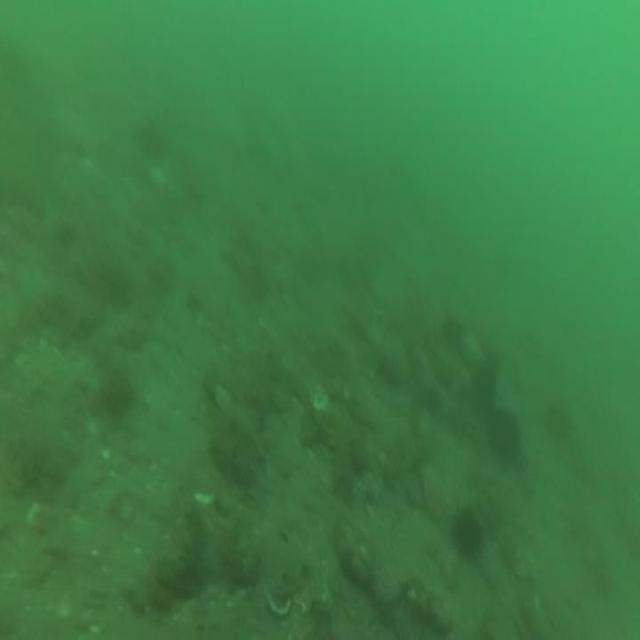echinus: (445, 498, 487, 566), (484, 403, 524, 469), (131, 110, 169, 168), (468, 354, 502, 414), (540, 398, 576, 449), (440, 310, 468, 351)
holothurian: (324, 400, 360, 499), (24, 496, 75, 560), (146, 553, 200, 613), (385, 596, 435, 640), (418, 457, 446, 528)
